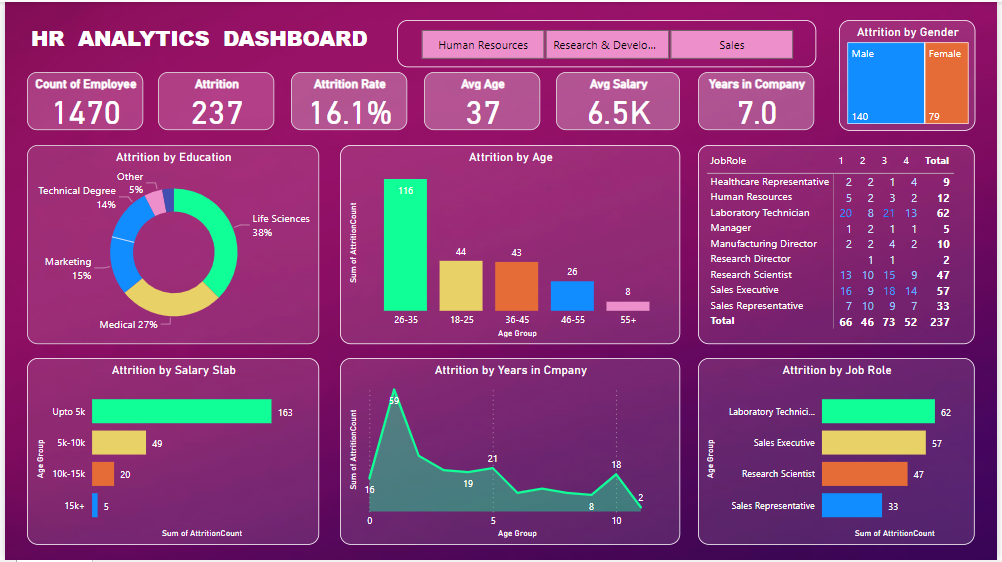

The dashboard page shown, as its layout file describes it:
{"tool":"powerbi","page":{"name":"Page 1","canvas":[1280,720],"ordinal":0},"visuals":[{"type":"card","title":"Count of Employee","fields":{"Values":["CountNonNull(HR_Analytics.EmpID)"]},"box":[28.3,90.7,150.2,75.1],"z":0},{"type":"card","title":"Avg Age","fields":{"Values":["Avg(HR_Analytics.Age)"]},"box":[540,90.7,150.2,75.1],"z":1000},{"type":"card","title":"Attrition Rate","fields":{"Values":["HR_Analytics.AttritionRate"]},"box":[368.5,90.7,150.2,75.1],"z":2000},{"type":"card","title":"Attrition","fields":{"Values":["Sum(HR_Analytics.AttritionCount)"]},"box":[197,90.7,150.2,75.1],"z":3000},{"type":"card","title":"Avg Salary","fields":{"Values":["Avg(HR_Analytics.MonthlyIncome)"]},"box":[711.5,90.7,160.2,75.1],"z":4000},{"type":"card","title":"Years in Company","fields":{"Values":["Avg(HR_Analytics.YearsAtCompany)"]},"box":[894.3,90.7,150.2,75.1],"z":5000},{"type":"donutChart","title":"Attrition by Education","fields":{"Category":["HR_Analytics.EducationField"],"Y":["Sum(HR_Analytics.AttritionCount)"]},"box":[28.3,184.3,377,256.5],"z":6000},{"type":"columnChart","title":"Attrition by Age","fields":{"Y":["Sum(HR_Analytics.AttritionCount)"],"Category":["HR_Analytics.AgeGroup"]},"box":[432.3,184.3,439.4,256.5],"z":7000},{"type":"pivotTable","fields":{"Rows":["HR_Analytics.JobRole"],"Values":["Sum(HR_Analytics.AttritionCount)"],"Columns":["HR_Analytics.JobSatisfaction"]},"box":[894.3,184.3,357.2,256.5],"z":8000},{"type":"barChart","title":"Attrition by Salary Slab","fields":{"Category":["HR_Analytics.SalarySlab"],"Y":["Sum(HR_Analytics.AttritionCount)"]},"box":[28.3,459.2,377,240.9],"z":9000},{"type":"barChart","title":"Attrition by Job Role","fields":{"Y":["Sum(HR_Analytics.AttritionCount)"],"Category":["HR_Analytics.JobRole"]},"box":[894.3,459.2,357.2,240.9],"z":10000},{"type":"areaChart","title":"Attrition by Years in Cmpany","fields":{"Category":["HR_Analytics.YearsAtCompany"],"Y":["Sum(HR_Analytics.AttritionCount)"]},"box":[432.3,459.2,439.4,240.9],"z":11000},{"type":"treemap","title":"Attrition by Gender","fields":{"Group":["HR_Analytics.Gender"],"Values":["Sum(HR_Analytics.AttritionCount)"]},"box":[1075.7,22.7,175.7,143.1],"z":12000},{"type":"slicer","fields":{"Values":["HR_Analytics.Department"]},"box":[506,22.7,541.4,60.9],"z":13000},{"type":"textbox","box":[28.3,22.7,456.4,60.9],"z":14000}]}

Visuals, with their boxes in screenshot pixels (x1, y1, x2, y2), scaled from the page's 1280x720 canvas onto the 1002x562 screenshot:
"Count of Employee" card: region(22, 71, 140, 129)
"Avg Age" card: region(423, 71, 540, 129)
"Attrition Rate" card: region(288, 71, 406, 129)
"Attrition" card: region(154, 71, 272, 129)
"Avg Salary" card: region(557, 71, 682, 129)
"Years in Company" card: region(700, 71, 818, 129)
"Attrition by Education" donutChart: region(22, 144, 317, 344)
"Attrition by Age" columnChart: region(338, 144, 682, 344)
pivotTable - HR_Analytics.JobRole x Sum(HR_Analytics.AttritionCount): region(700, 144, 980, 344)
"Attrition by Salary Slab" barChart: region(22, 358, 317, 546)
"Attrition by Job Role" barChart: region(700, 358, 980, 546)
"Attrition by Years in Cmpany" areaChart: region(338, 358, 682, 546)
"Attrition by Gender" treemap: region(842, 18, 980, 129)
slicer - HR_Analytics.Department: region(396, 18, 820, 65)
textbox: region(22, 18, 379, 65)
